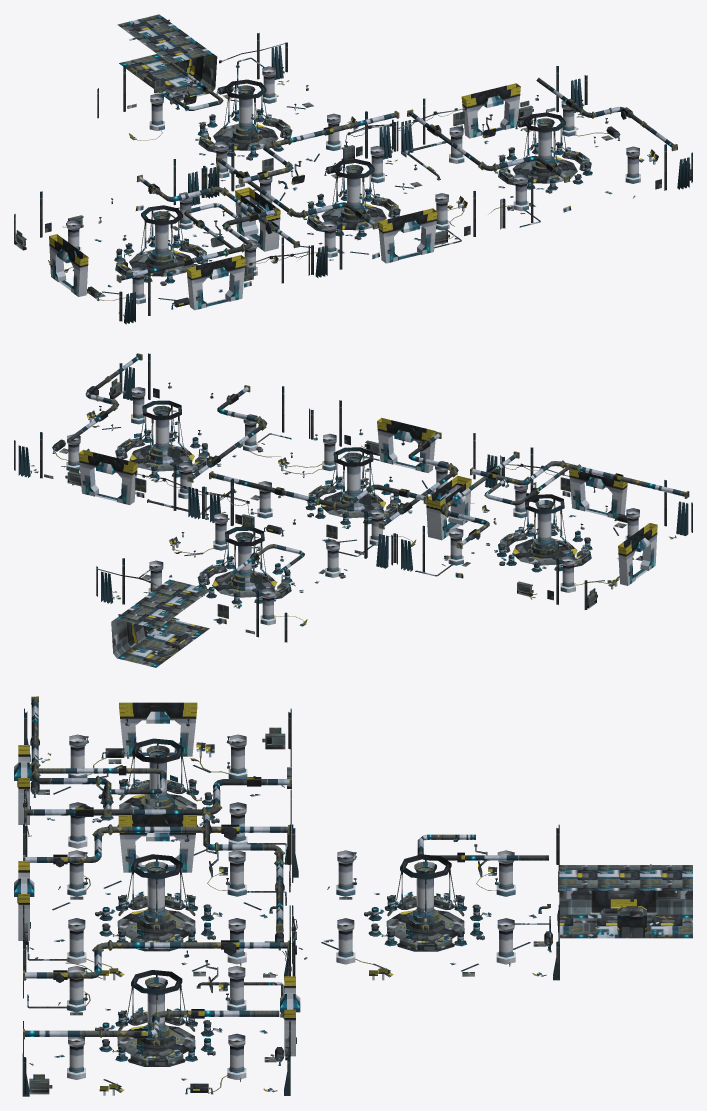
Rendered from Combined_Mesh_root_scene__10_7ad9d44b__ZombiesII_laboratory_08_d_36b73b52_c1f257_part001.obj.
3 renders of one model, top to bottom at view 1: azimuth 30°, elevation 25°; view 2: azimuth 150°, elevation 25°; view 3: azimuth 270°, elevation 25°, orthographic. The views are drawn at different scales.
Bounding box in the file's own units: 124 × 10.34 × 102.
541 materials, 541 textured.
